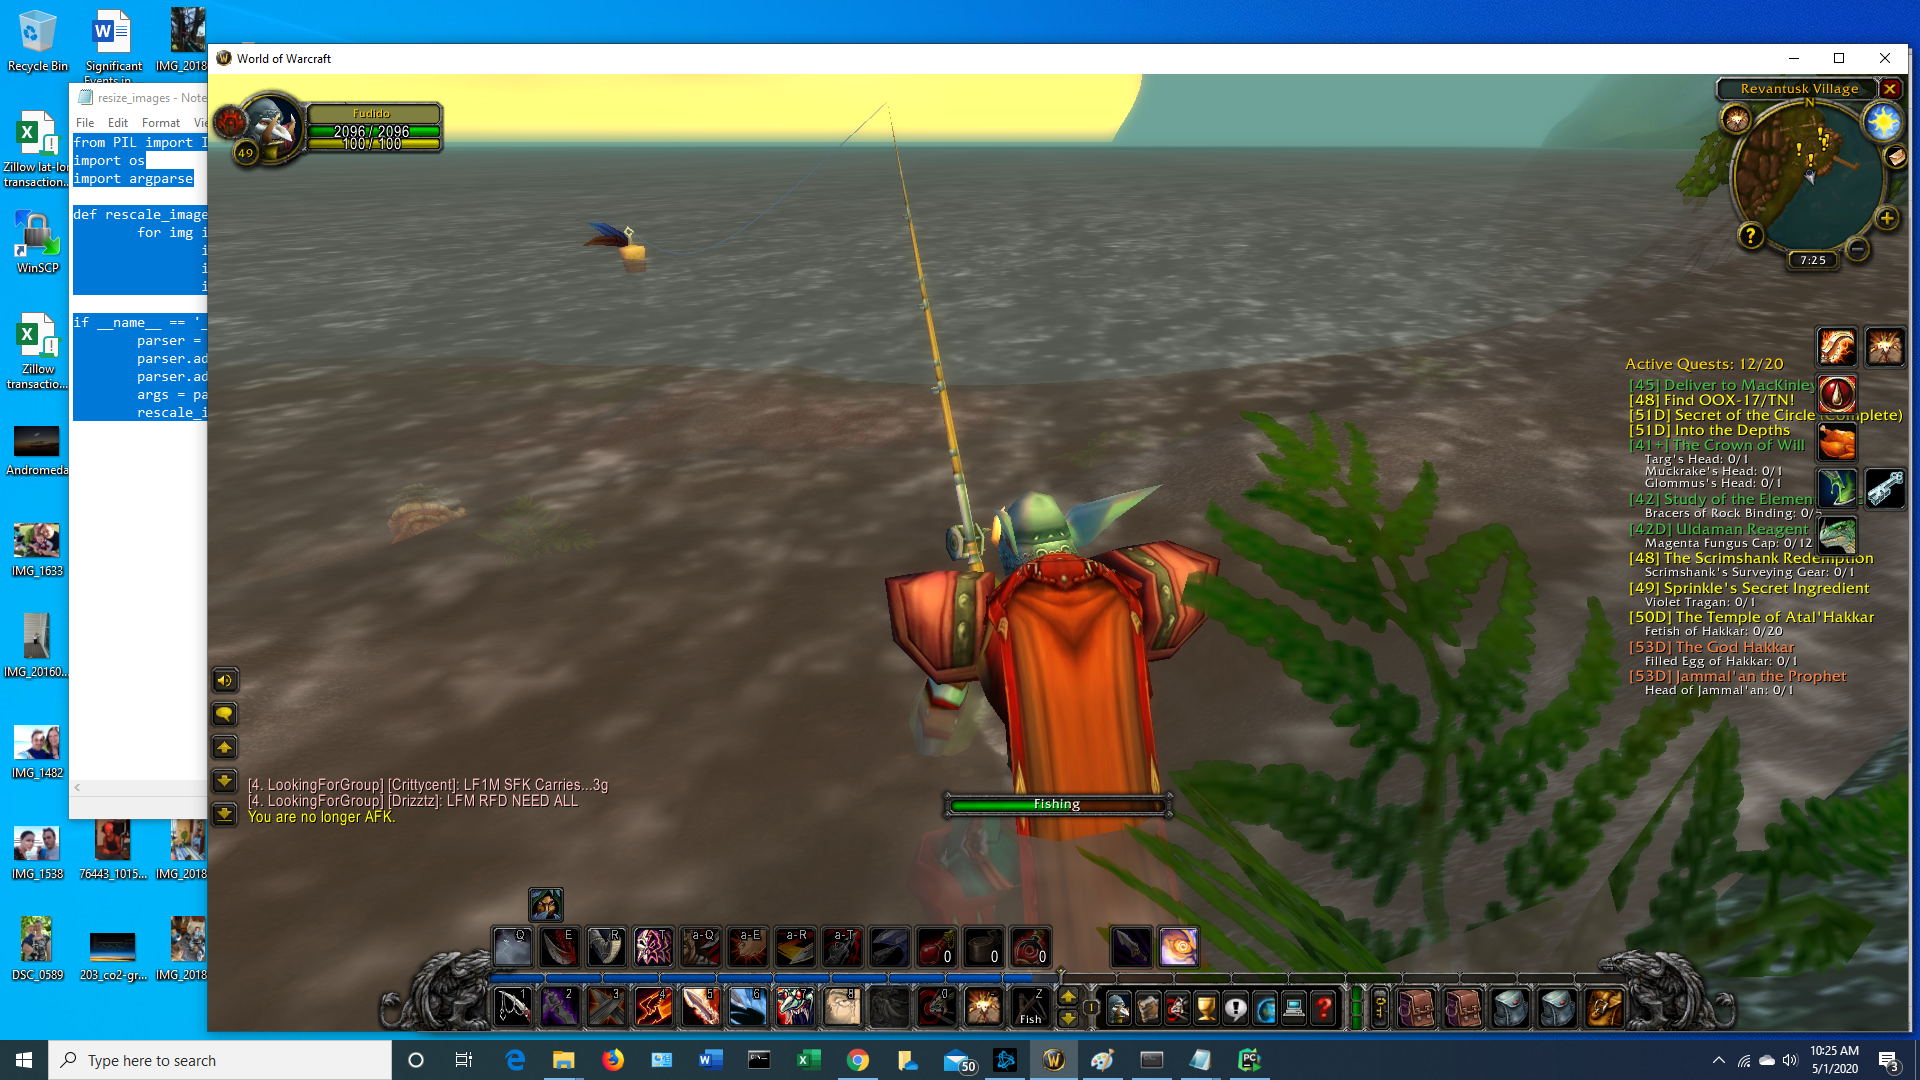bobble: (580, 215, 658, 280)
